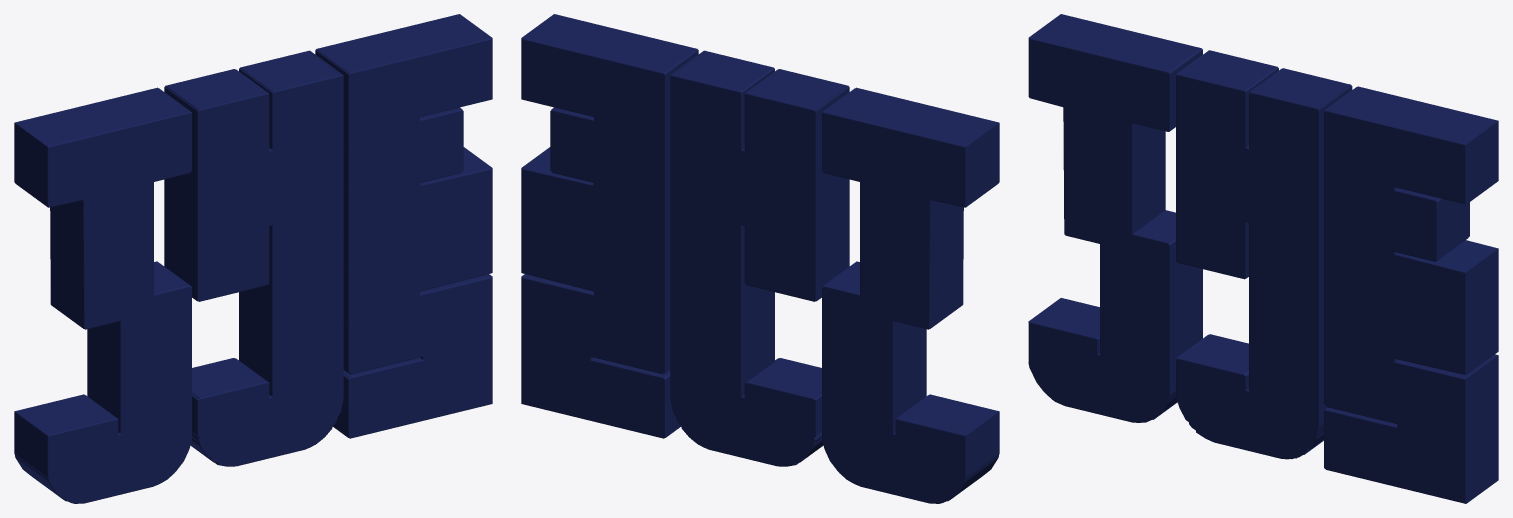
The model's file is SRvIDrX9.gltf.
The picture shows the model from 3 angles, left to right: view 1: azimuth 30°, elevation 25°; view 2: azimuth 150°, elevation 25°; view 3: azimuth 330°, elevation 25°; orthographic projection.
Bounding box in the file's own units: 502 × 394 × 66.
